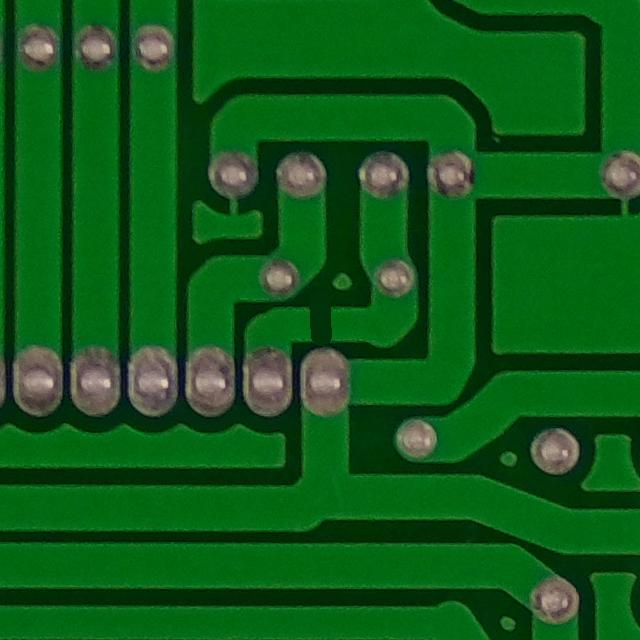open_circuit: (293, 292, 348, 348)
